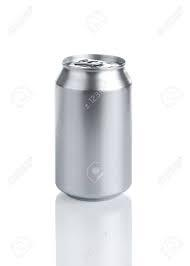Aluminum can: (48, 37, 141, 211)
